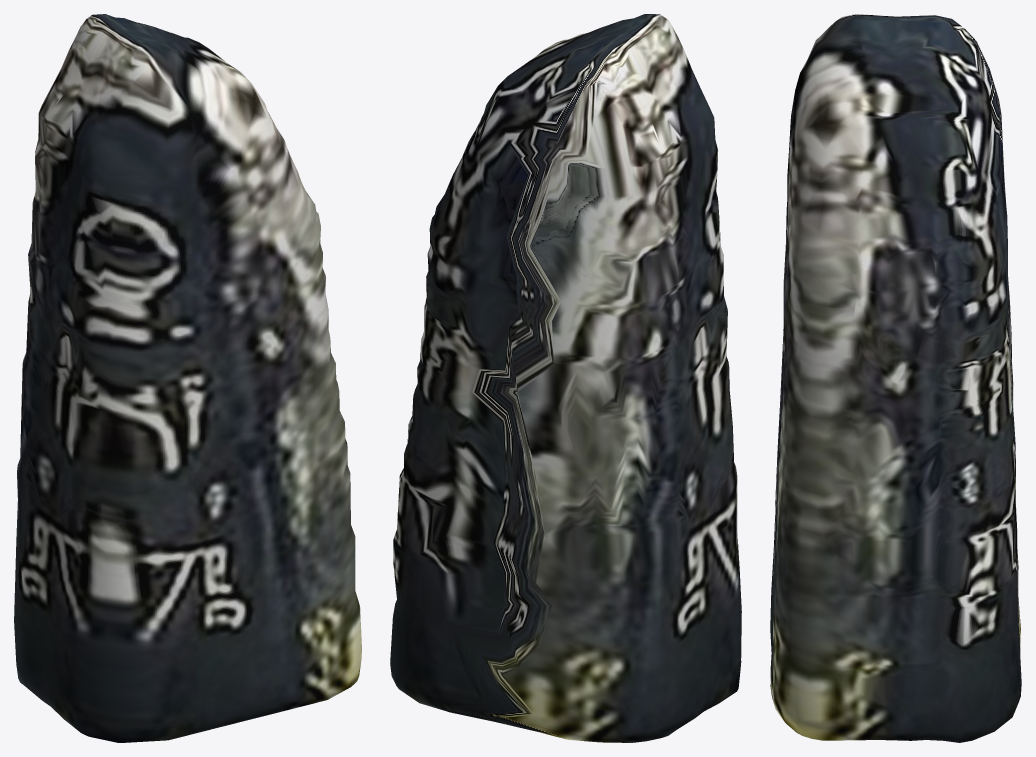
The model's file is small_stone.glb.
The picture shows the model from 3 angles, left to right: view 1: azimuth 30°, elevation 25°; view 2: azimuth 150°, elevation 25°; view 3: azimuth 270°, elevation 25°; orthographic projection. The views are drawn at different scales.
Visible parts, largest first — view 1: small_stone; view 2: small_stone; view 3: small_stone.
Boxes of the visible parts, x1=… form: small_stone: x1=14, y1=14, x2=361, y2=742; small_stone: x1=390, y1=14, x2=741, y2=742; small_stone: x1=770, y1=14, x2=1021, y2=742.
Size of the model in its own units: 0.4464 by 1 by 0.3575.
Materials: 1 (1 with a texture image).
